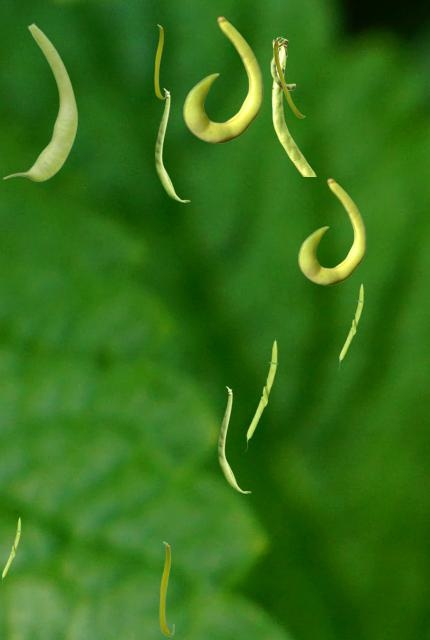french_bean: (2, 22, 77, 180), (183, 16, 262, 142), (298, 178, 365, 284), (270, 37, 315, 175), (155, 88, 189, 201), (245, 338, 277, 451), (218, 386, 250, 492), (273, 36, 304, 117), (338, 282, 363, 369), (159, 541, 173, 635), (1, 516, 20, 584), (154, 24, 165, 98)
